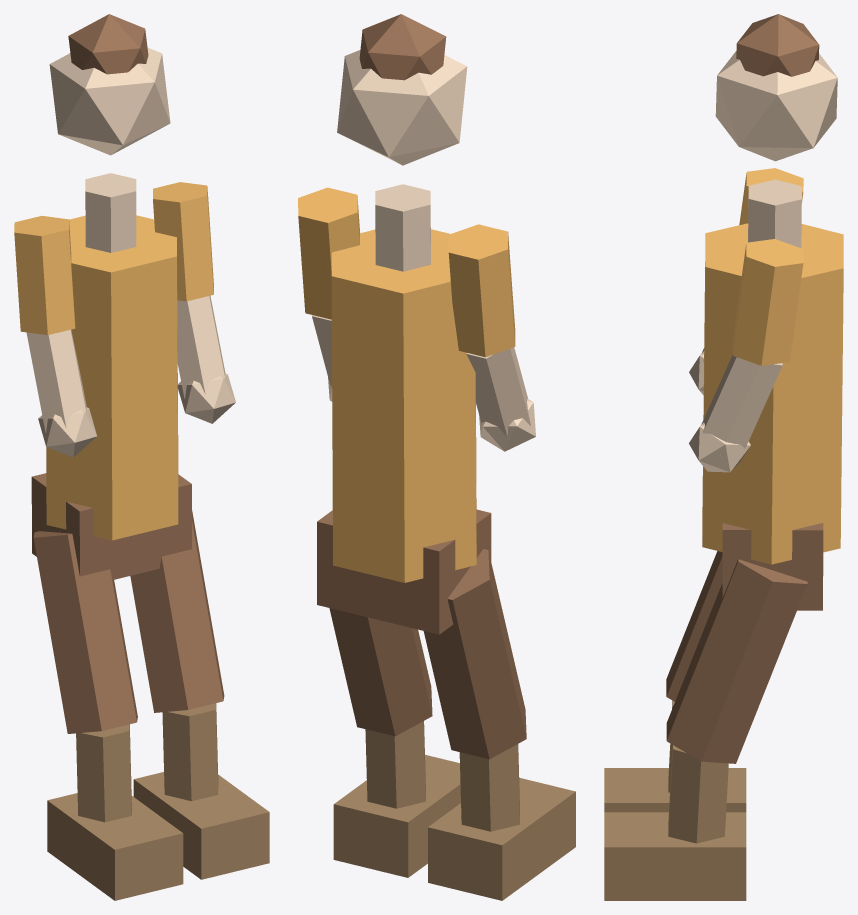
File: pose_hit_light_22.glb
3 renders of one model, left to right at view 1: azimuth 30°, elevation 25°; view 2: azimuth 150°, elevation 25°; view 3: azimuth 270°, elevation 25°, orthographic. The views are drawn at different scales.
Parts seen in each view (by area): view 1: pose; view 2: pose; view 3: pose.
Part boxes in pixels (x1,y1,x2,y2): pose: (14, 14, 269, 900); pose: (298, 14, 575, 900); pose: (604, 14, 843, 900).
Size of the model in its own units: 0.3956 by 1.58 by 0.405.
